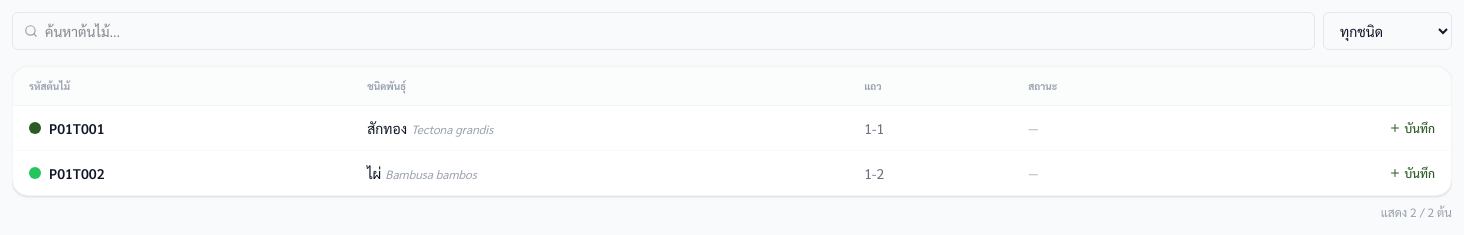
Test case: TreeTable › should filter trees by tree code
Type "P01T001" into the field with placeholder "ค้นหาต้นไม้..." at (664, 31), box [12,12,1315,50]
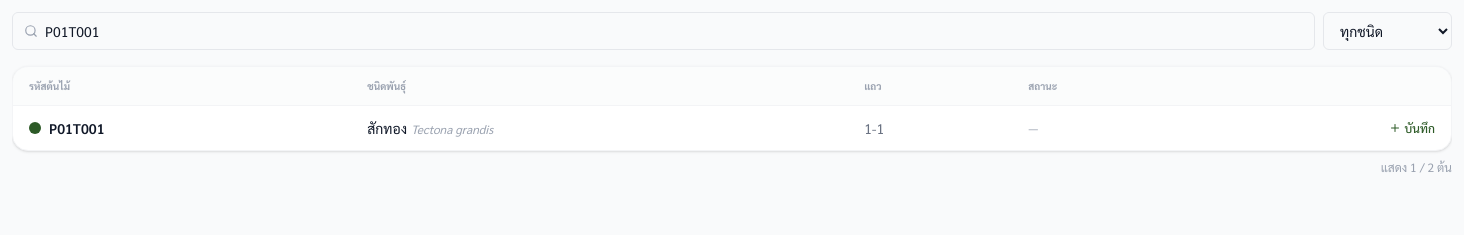
expect the text "P01T001" is shown: met, box [29,119,104,137]
expect the text "P01T002" is gone: met
